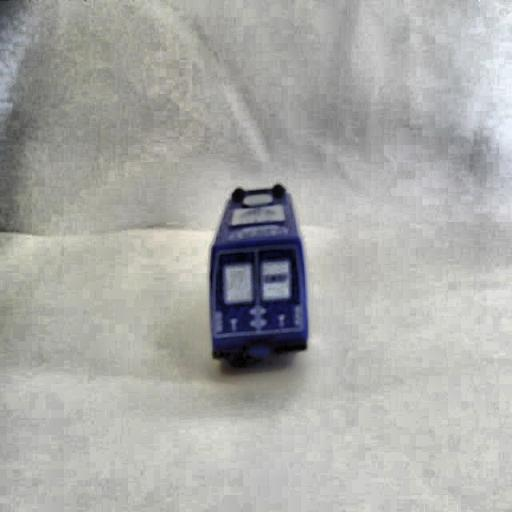police car: (204, 174, 308, 366)
